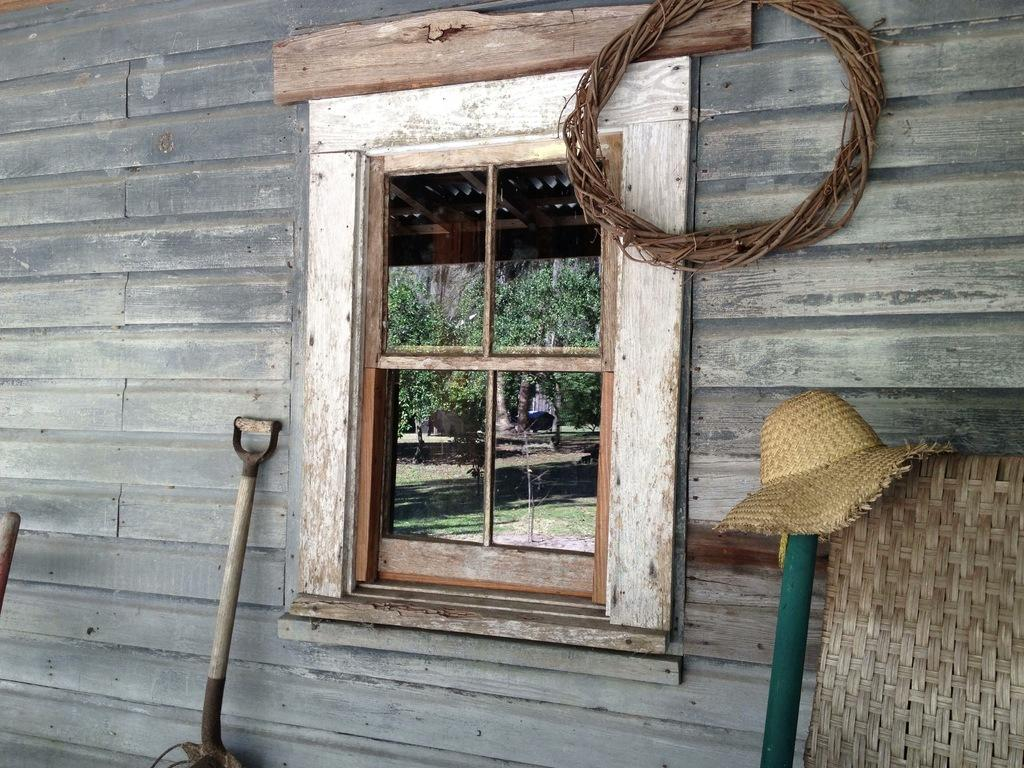Hat: (713, 388, 959, 535)
